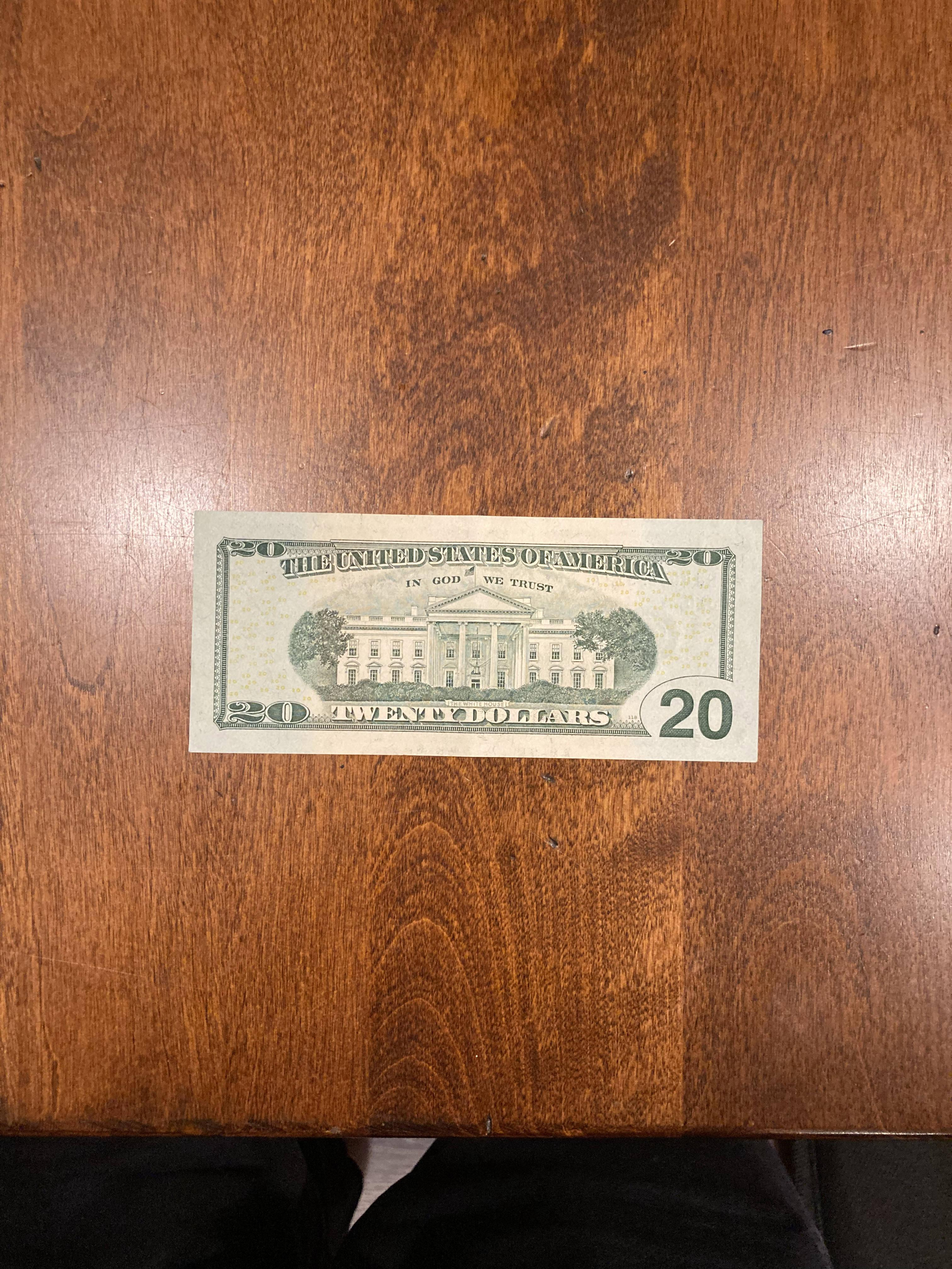twenty-back: (189, 509, 763, 763)
